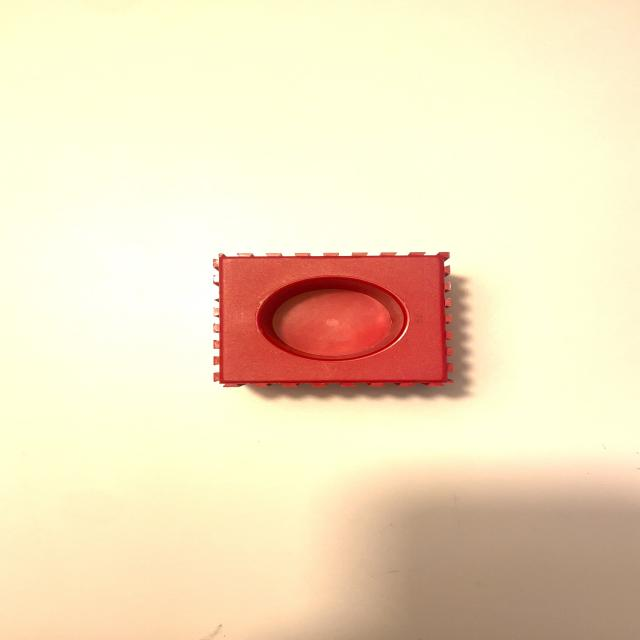Empty_Slot: (213, 252, 452, 387)
